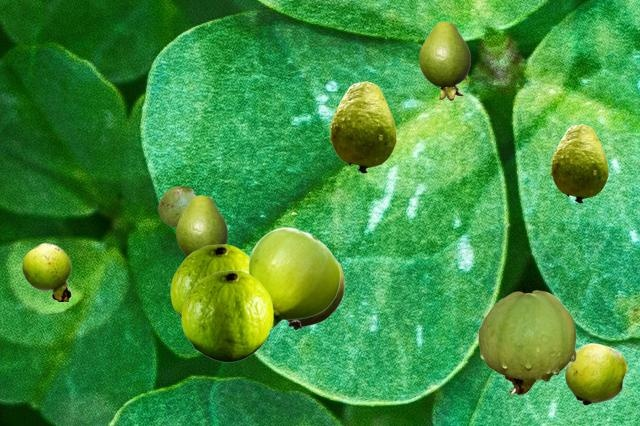guava: (478, 290, 575, 394), (248, 227, 339, 327), (181, 270, 272, 361), (329, 81, 395, 172), (170, 244, 248, 318), (550, 124, 607, 202), (286, 259, 344, 329), (419, 21, 469, 99), (565, 343, 626, 404), (176, 195, 226, 255), (22, 243, 70, 300), (158, 186, 196, 226)
